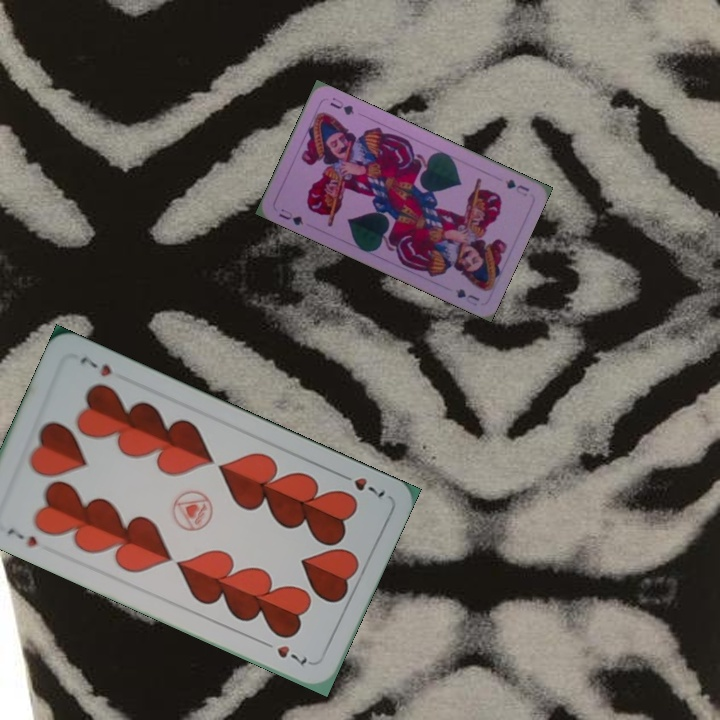GU: (275, 204, 306, 228), (501, 175, 532, 199)
H7: (334, 468, 388, 500), (3, 523, 40, 550)
